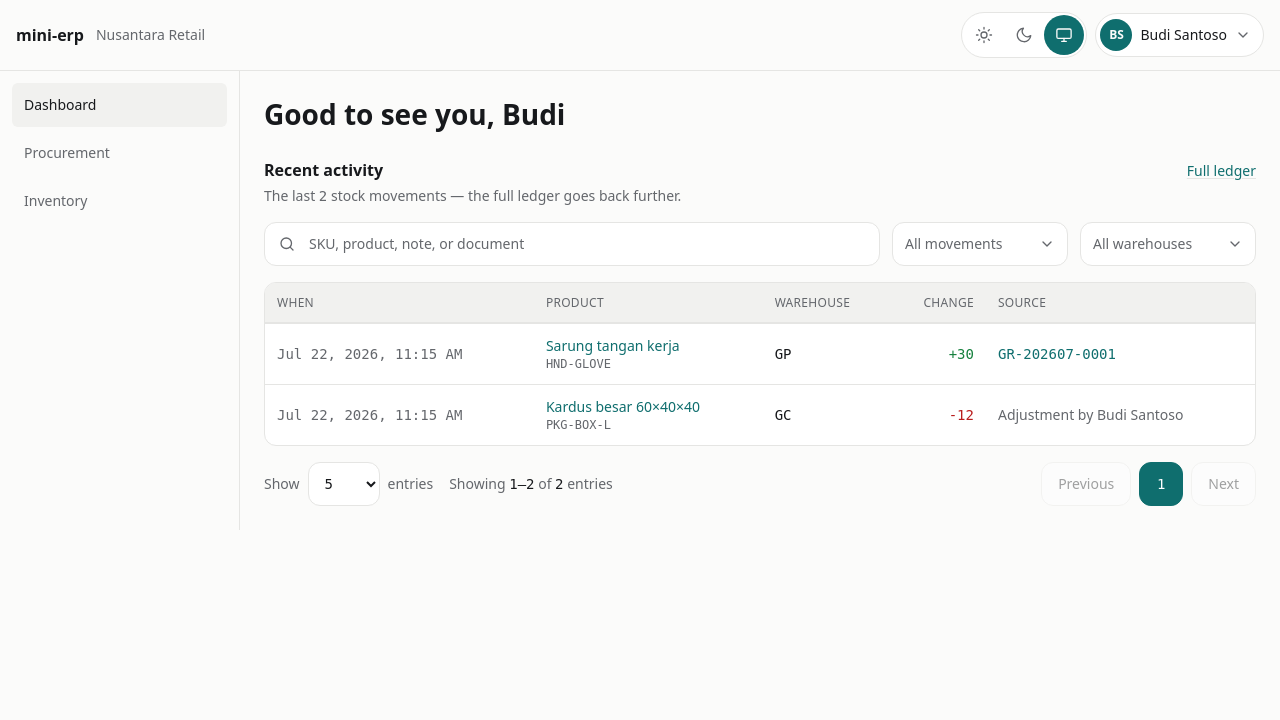
FE32 — the activity table, and the one way it could mislead › narrows on a search, and the pagination follows
Expected: the link "mini-erp" is shown, [16, 23, 84, 47]
Expected: the table is shown, [265, 283, 1255, 445]
In the search field named "Search recent activity": (572, 244) [264, 222, 880, 266], type "kardus"
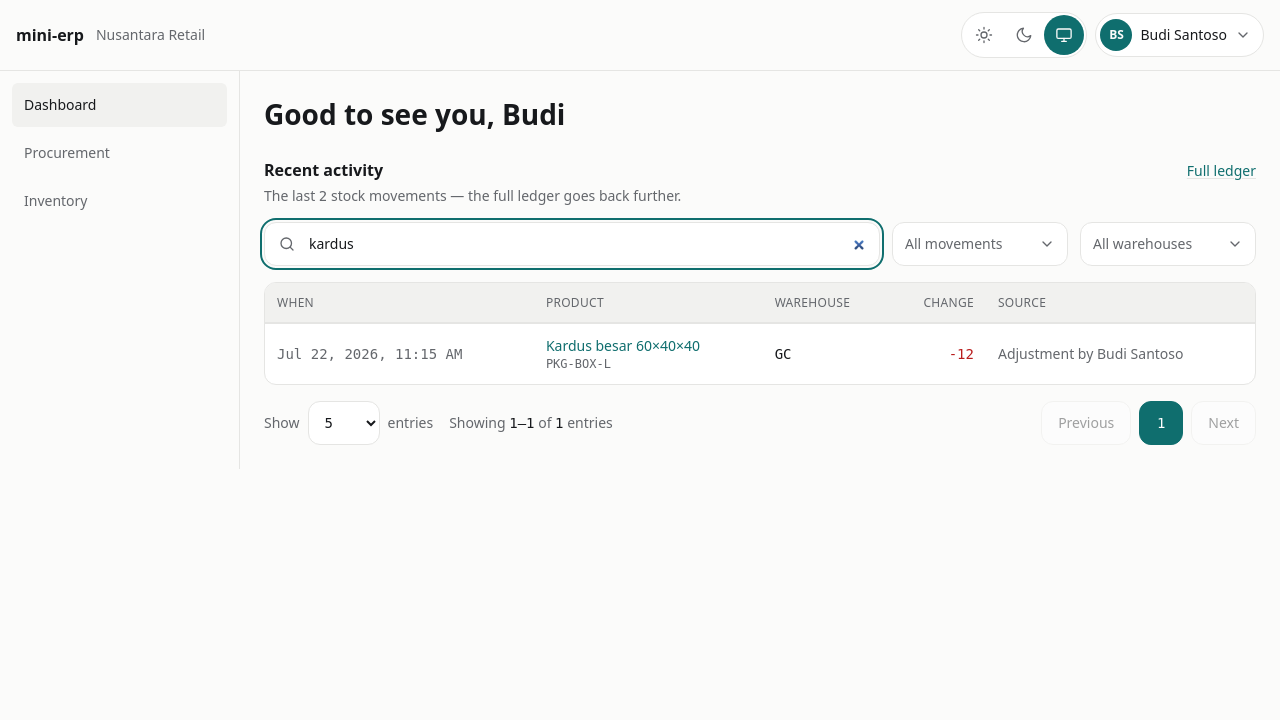
Expected: the number of rows is 2, [265, 283, 1255, 324]; [265, 324, 1255, 384]
Result: the text "Showing 1–1 of 1 entries" is shown at [449, 413, 613, 433]
